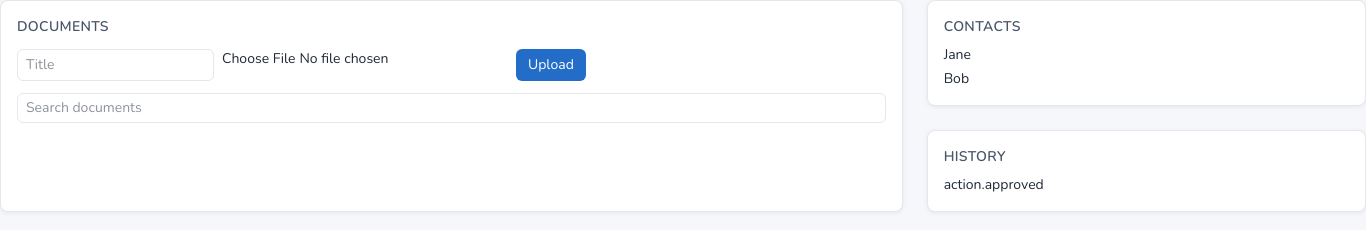
it: BrainPage › filters contacts and history client-side by the search box
expect the list item "Jane" is shown: met, box [944, 45, 971, 64]
expect the list item "Bob" is shown: met, box [944, 69, 969, 88]
Type "jane" into the field with placeholder "Search documents" at coordinates (451, 108), box [17, 93, 886, 123]
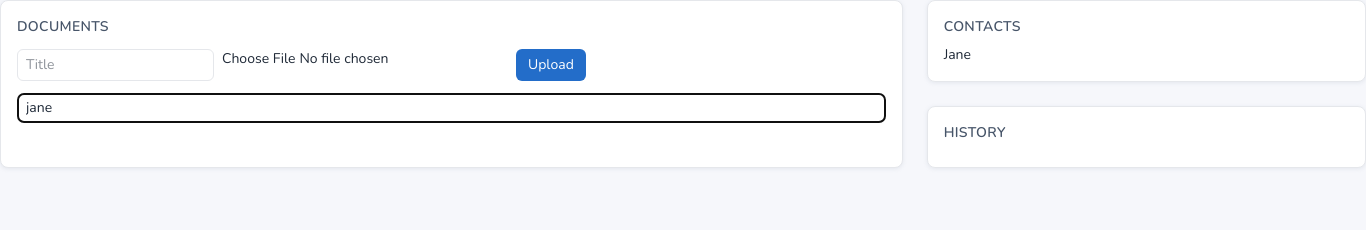
expect the list item "Jane" is shown: met, box [944, 45, 971, 64]
expect the list item "Bob" is gone: met
expect the list item "action.approved" is gone: met
